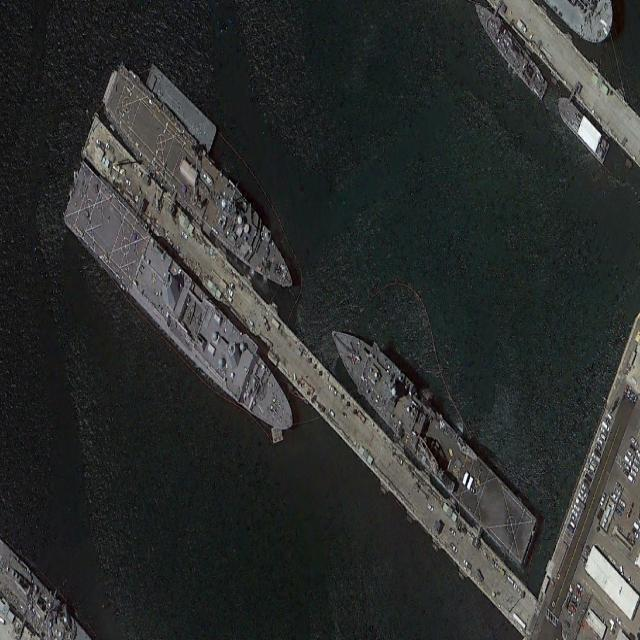Auxiliary Ships: (61, 159, 302, 453)
Landing: (322, 303, 539, 573), (99, 58, 302, 311)
Other Ship: (470, 1, 550, 103)
